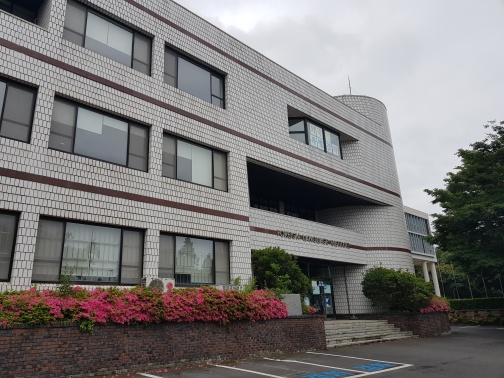Foreign Language Institute: (6, 5, 416, 344), (48, 83, 237, 201)
